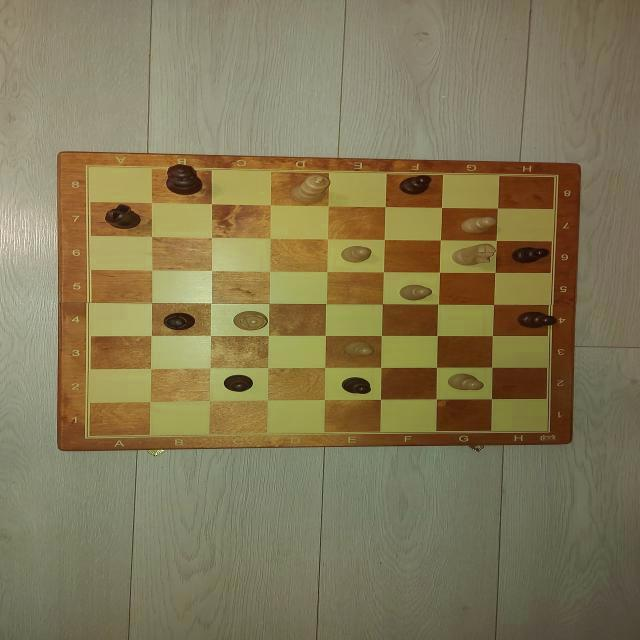chess-table-corners: (66, 155, 112, 179), (522, 416, 563, 441), (68, 425, 106, 445), (532, 170, 568, 190)
